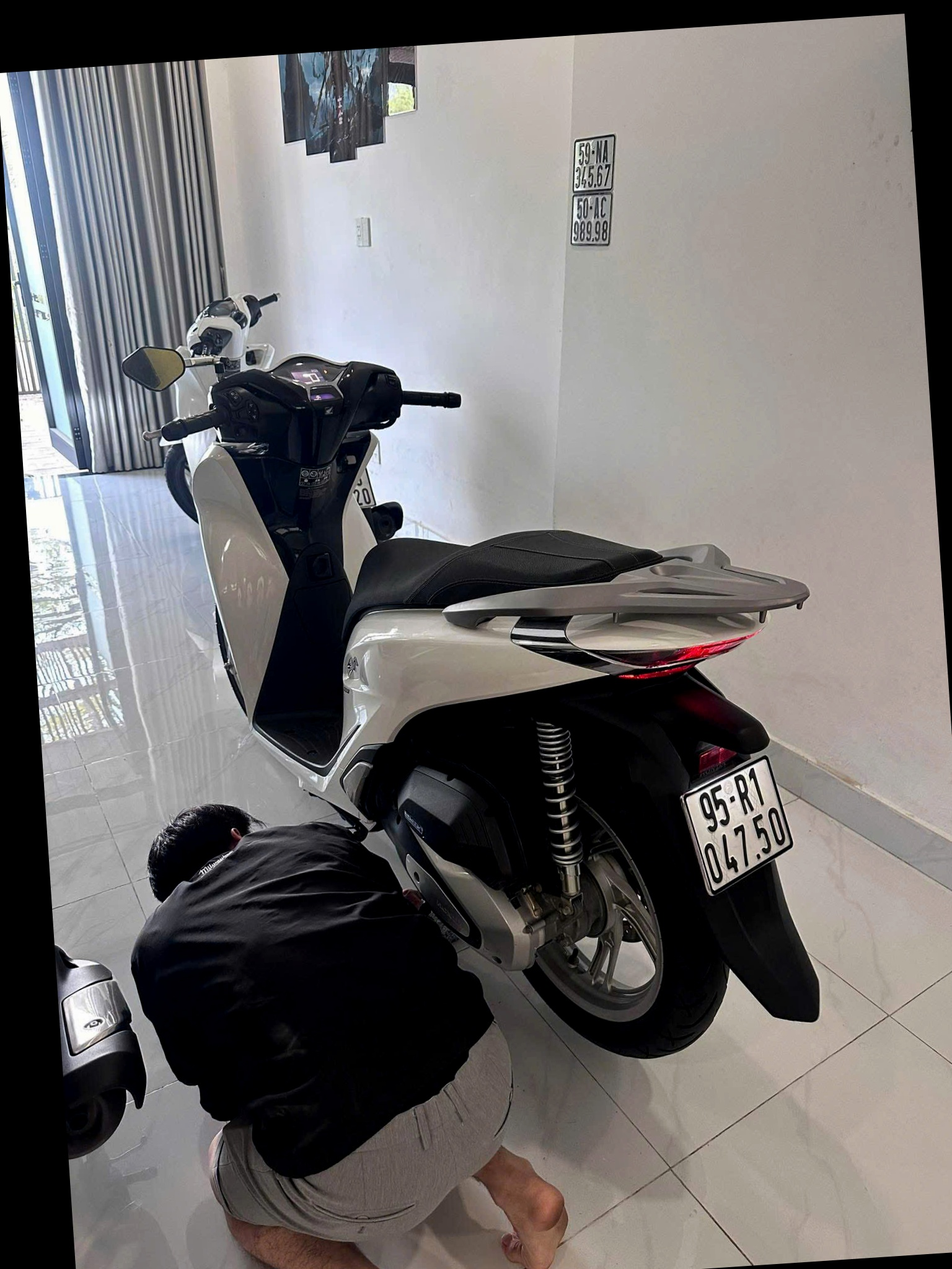Bien-so: (667, 747, 783, 887)
